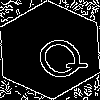Q: (25, 25, 91, 87)
